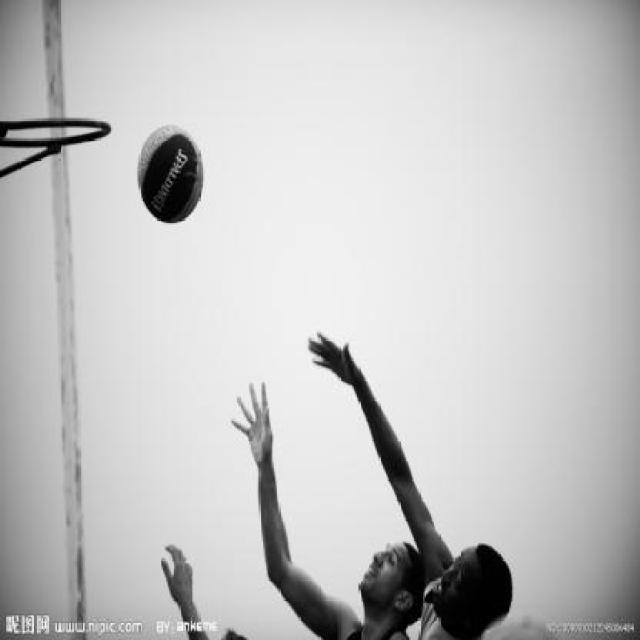basketball: (138, 123, 204, 225)
